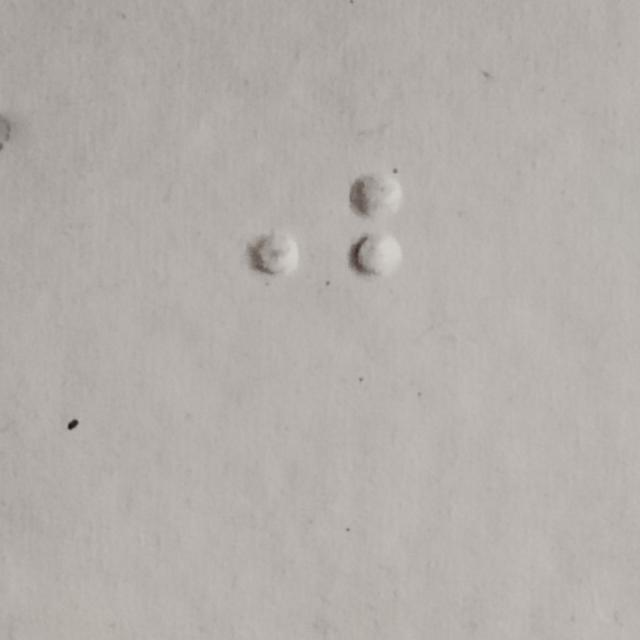binata: (351, 171, 474, 359)
dot_5: (179, 173, 302, 361)
